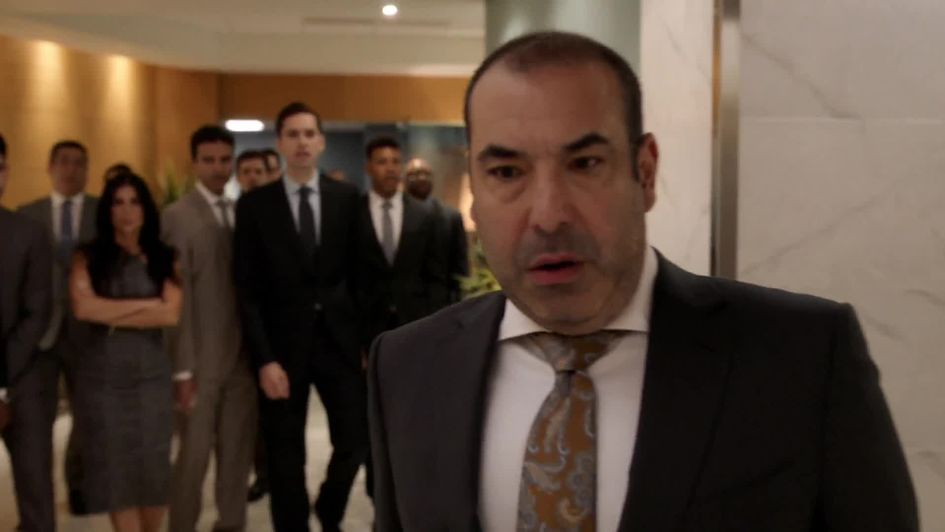feet: (260, 481, 352, 532)
